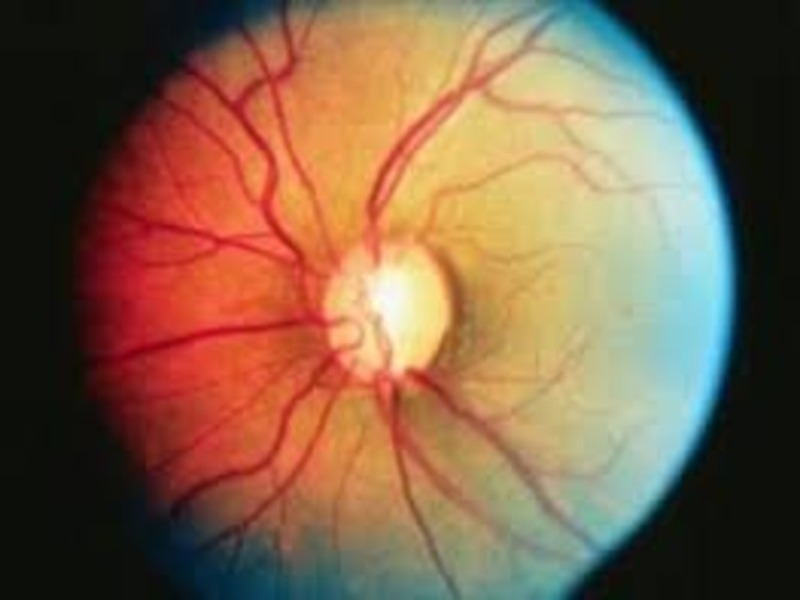Optic Cup: (358, 268, 411, 361)
Optic Disc: (319, 234, 457, 387)
